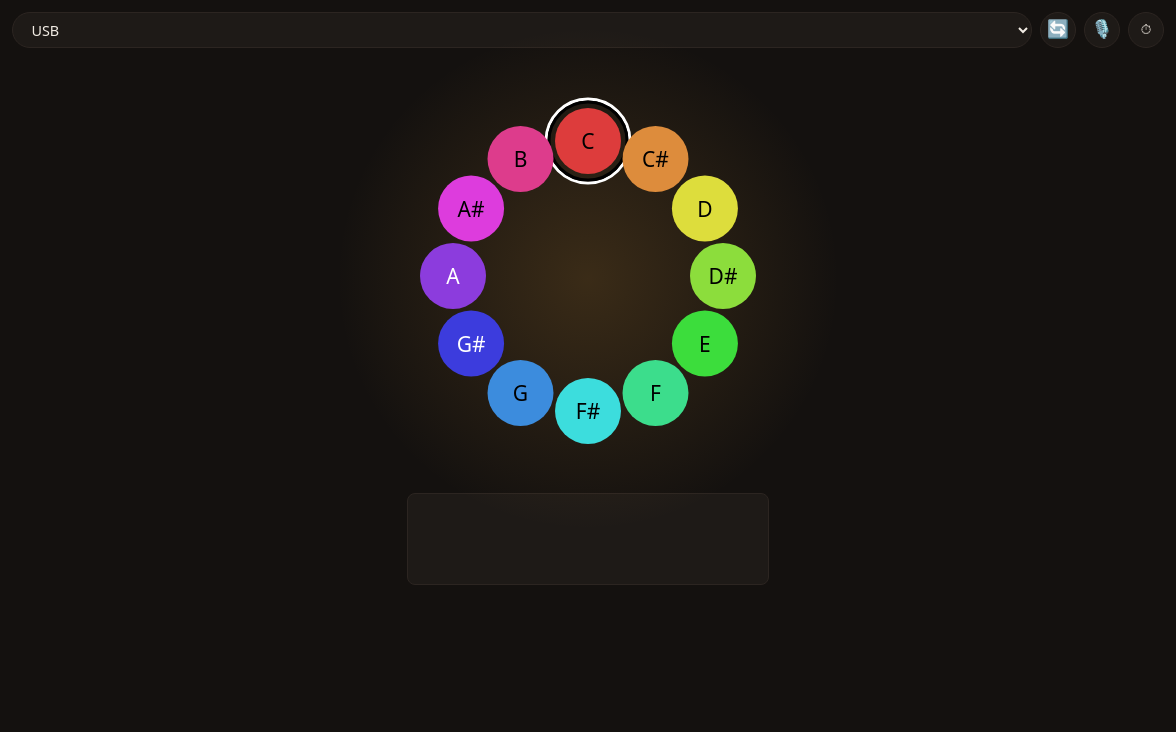
Test: InputLane › latency › reports a failure and keeps the latency when nothing was detected
Click the button named "Atraso da entrada" at x=1146, y=30, box [1128,12,1164,48]
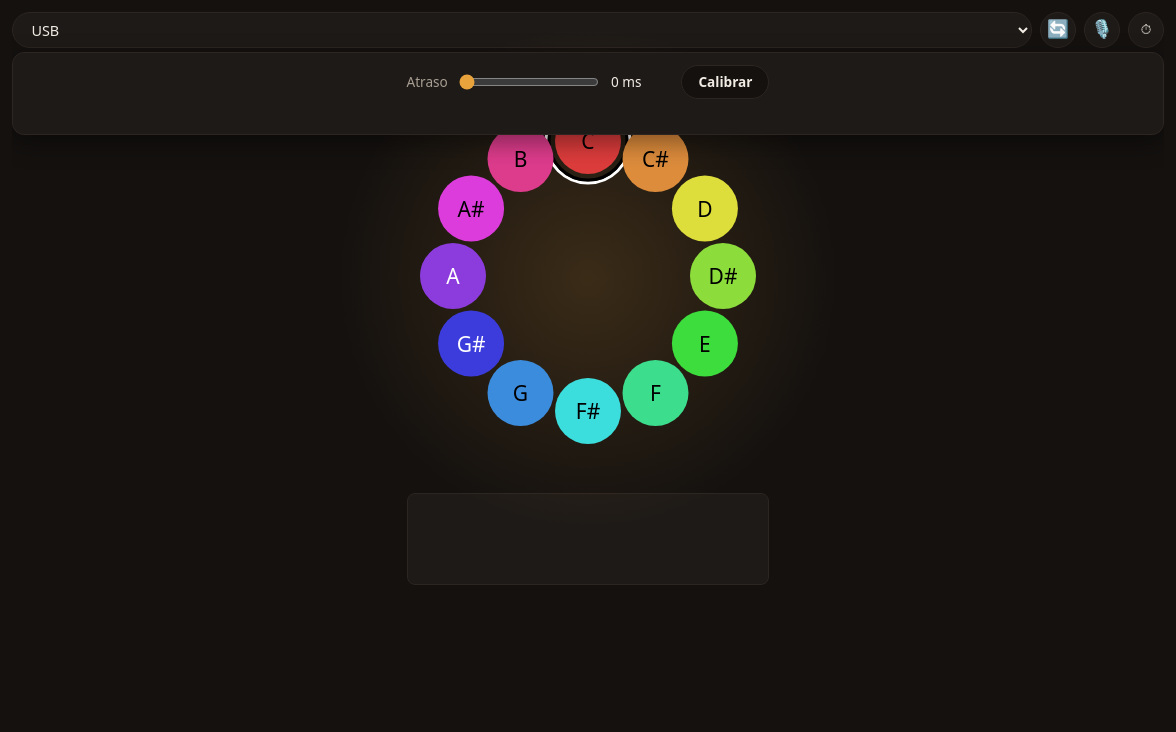
Click the button "Calibrar" at x=725, y=82, box [681,65,770,99]
Wait 3600 ms
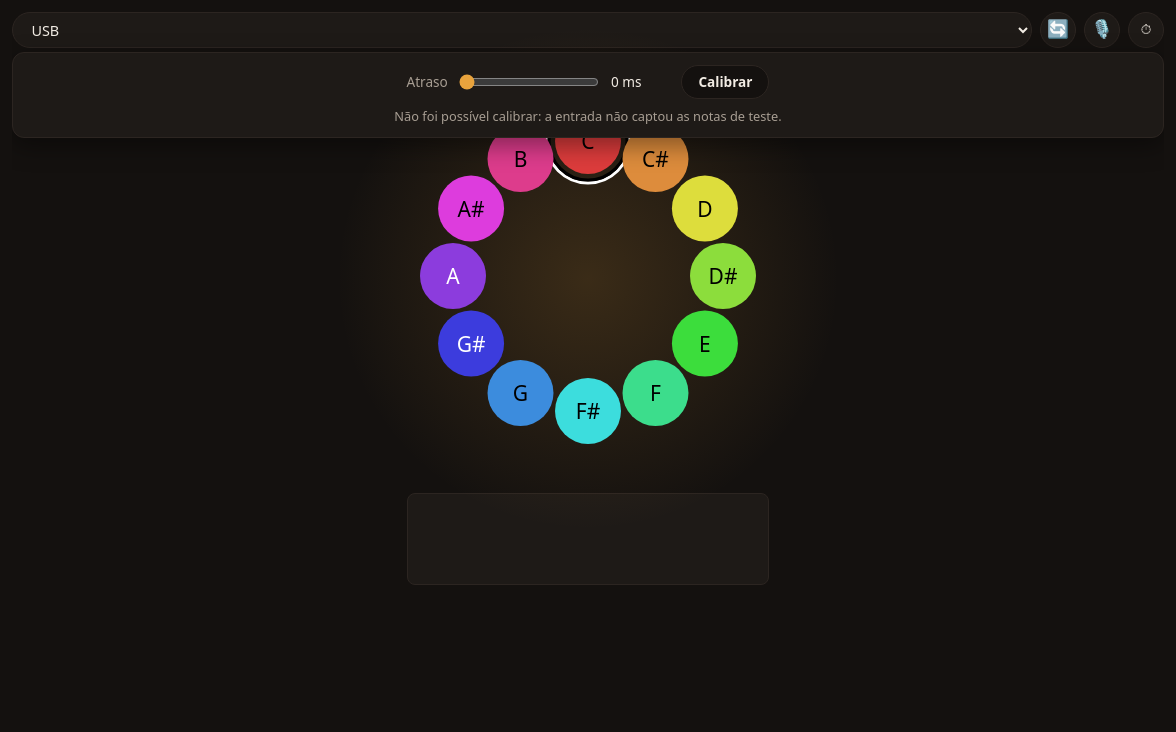
Expected: the text "Não foi possível calibrar: a entrada não captou as notas de teste." is shown, [394,107,782,125]
